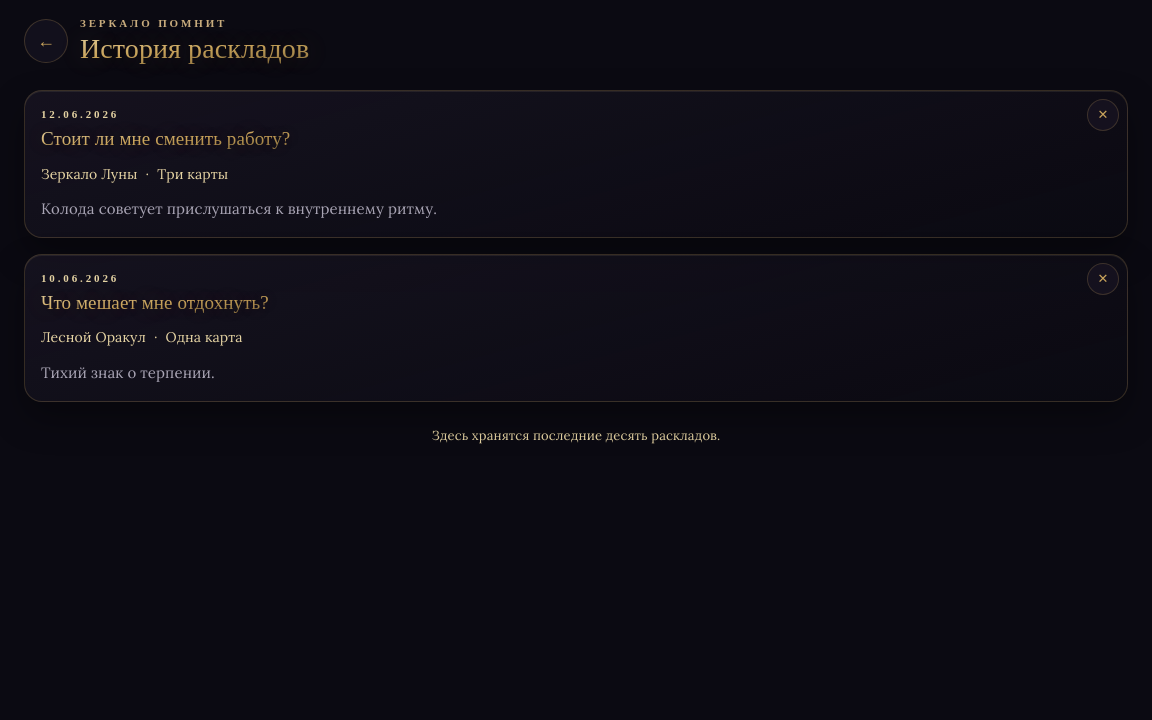
«Отменить» restores the removed reading and POSTs the restore endpoint — HIST-04 undo
Expected: the text "Стоит ли мне сменить работу?" is shown, [41, 127, 290, 151]
Delete the first reading.
Click the button named "Убрать расклад из истории" at (1103, 115), box [1087, 99, 1119, 131]
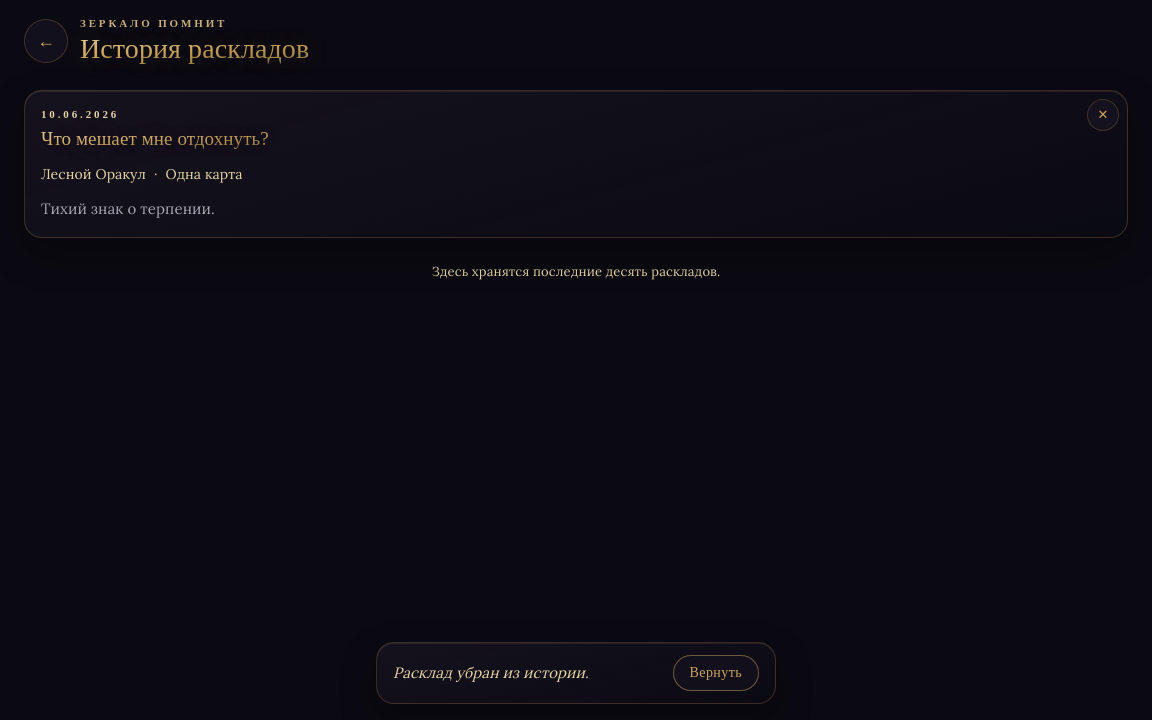
Now the button "Стоит ли мне сменить работу?" is gone
Undo → the reading is re-inserted into the cached list (re-rendered).
Click the button "Вернуть" at (716, 673), box [672, 655, 759, 691]
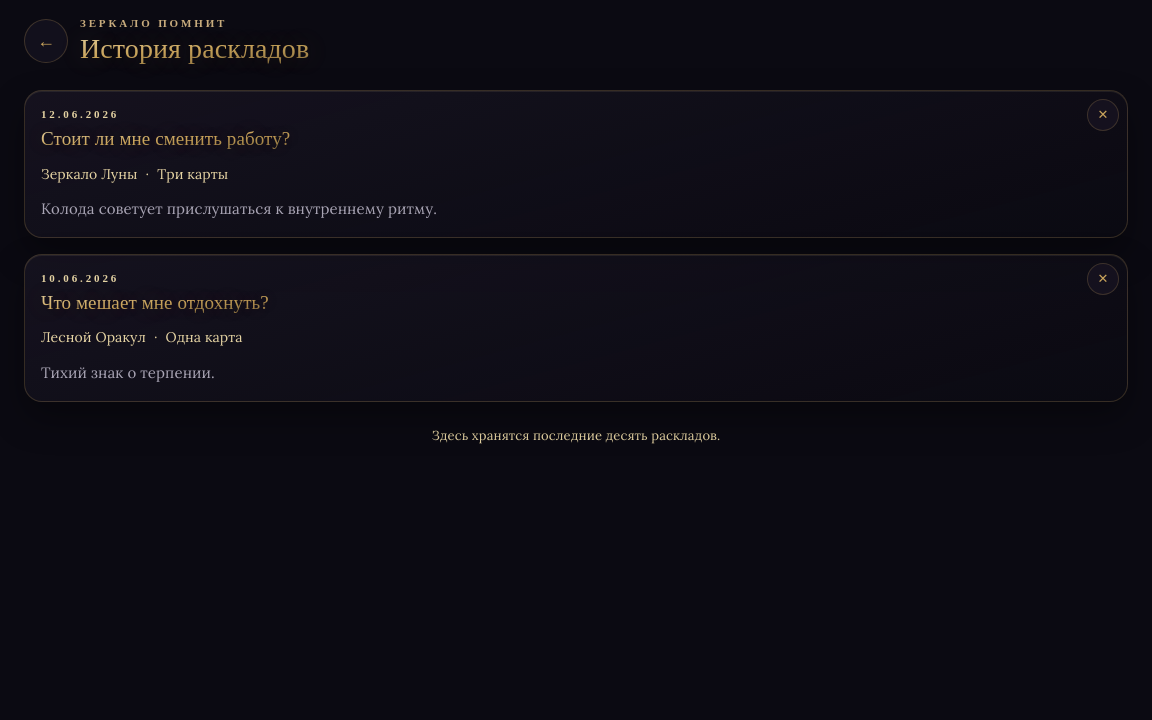
Now the text "Стоит ли мне сменить работу?" is shown, box [41, 127, 290, 151]
Now the text "Расклад убран из истории." is gone
